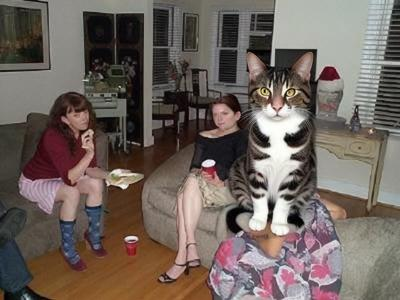cat: (226, 49, 316, 237)
chair: (140, 140, 228, 272), (183, 67, 225, 134), (153, 93, 183, 143)
person: (208, 145, 349, 300), (18, 91, 111, 275), (157, 95, 242, 286)
sofa: (1, 112, 111, 265)
